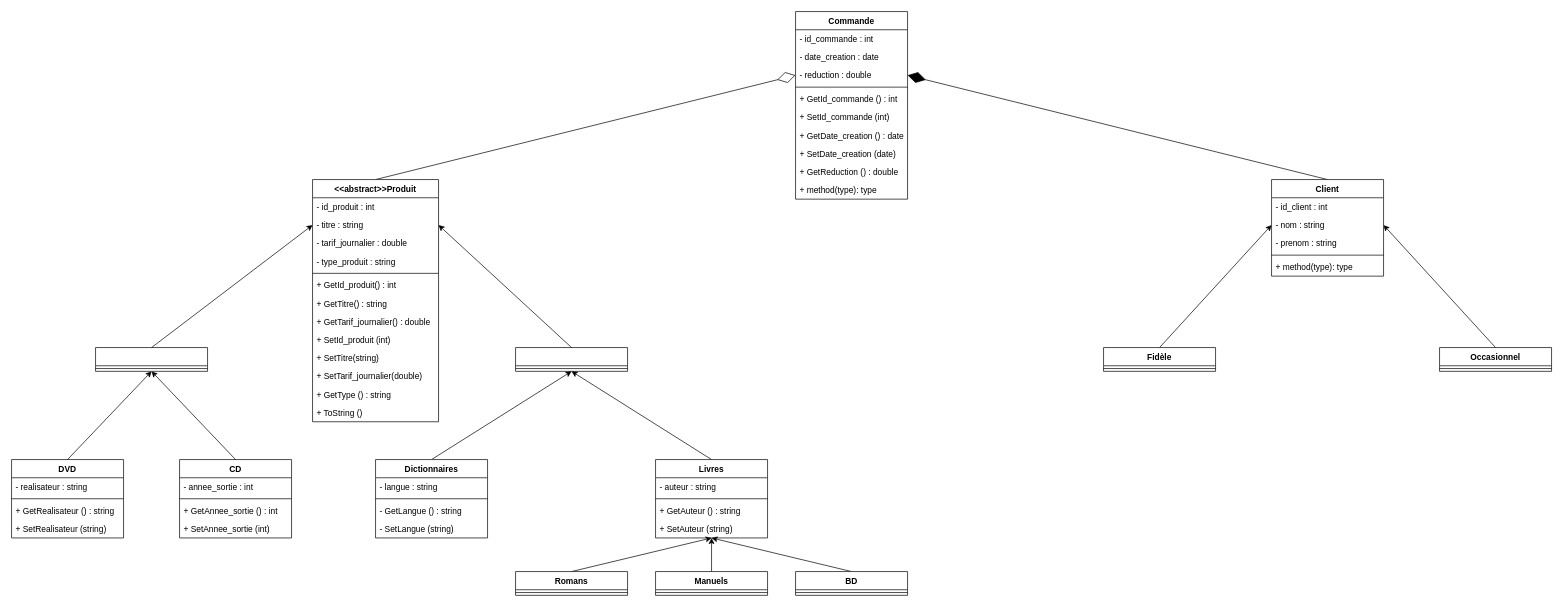
Some shapes in this 1563 by 607 pixel diagram are drawn without their labels. Each missing label, with the centre of its shape:
Documents: the point at 571,359
Supports_numeriques: the point at 151,359
